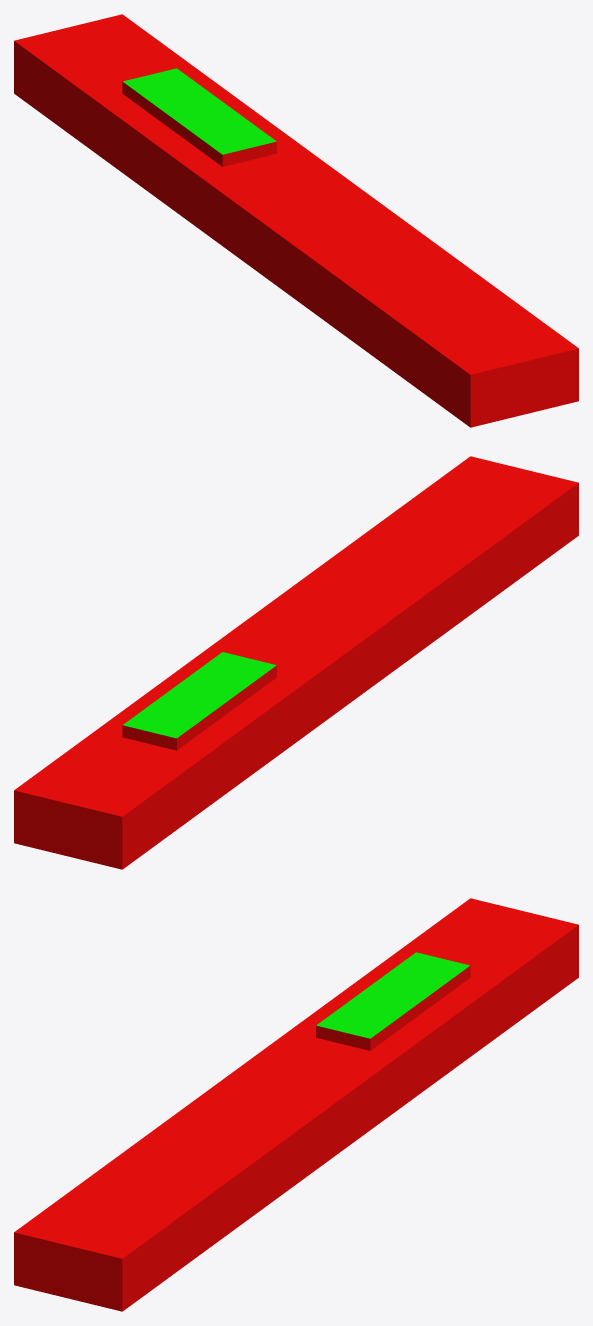
The model's file is labeled.obj.
The picture shows the model from 3 angles, top to bottom: view 1: azimuth 30°, elevation 25°; view 2: azimuth 150°, elevation 25°; view 3: azimuth 330°, elevation 25°; orthographic projection.
Bounding box in the file's own units: 0.0198 × 0.0114 × 0.1444.
